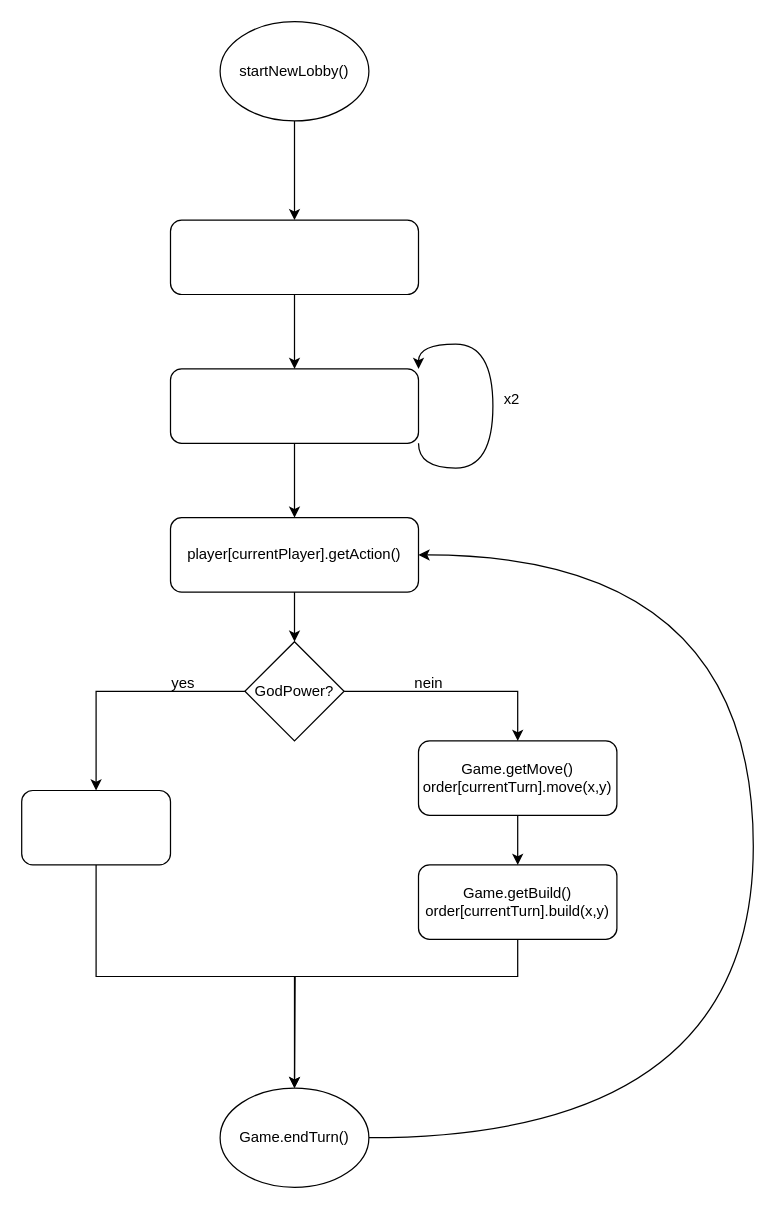
This 775x1209 diagram has some shape labels left out. Each missing label, with the centre of its shape:
"Game.chooseDivinity()" belongs at pixel 293 256.
"GodPower.execute()" belongs at pixel 95 827.
"player[currentPlayer].placeWorkers()" belongs at pixel 293 405.
